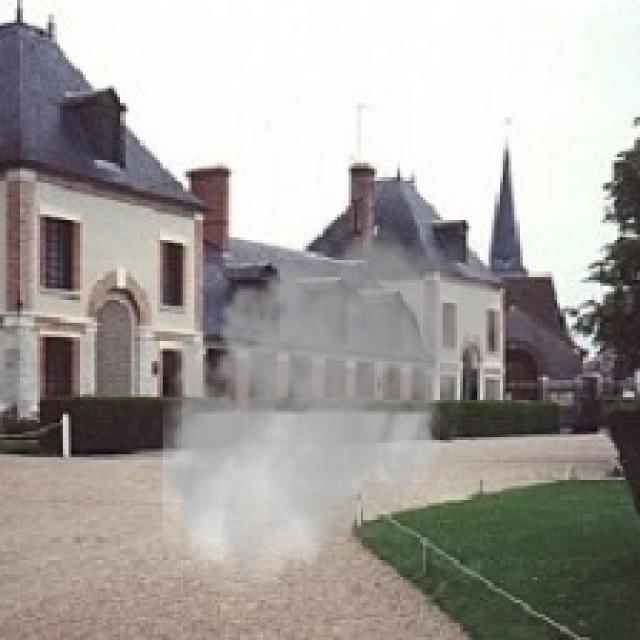smoke: (148, 212, 508, 592)
